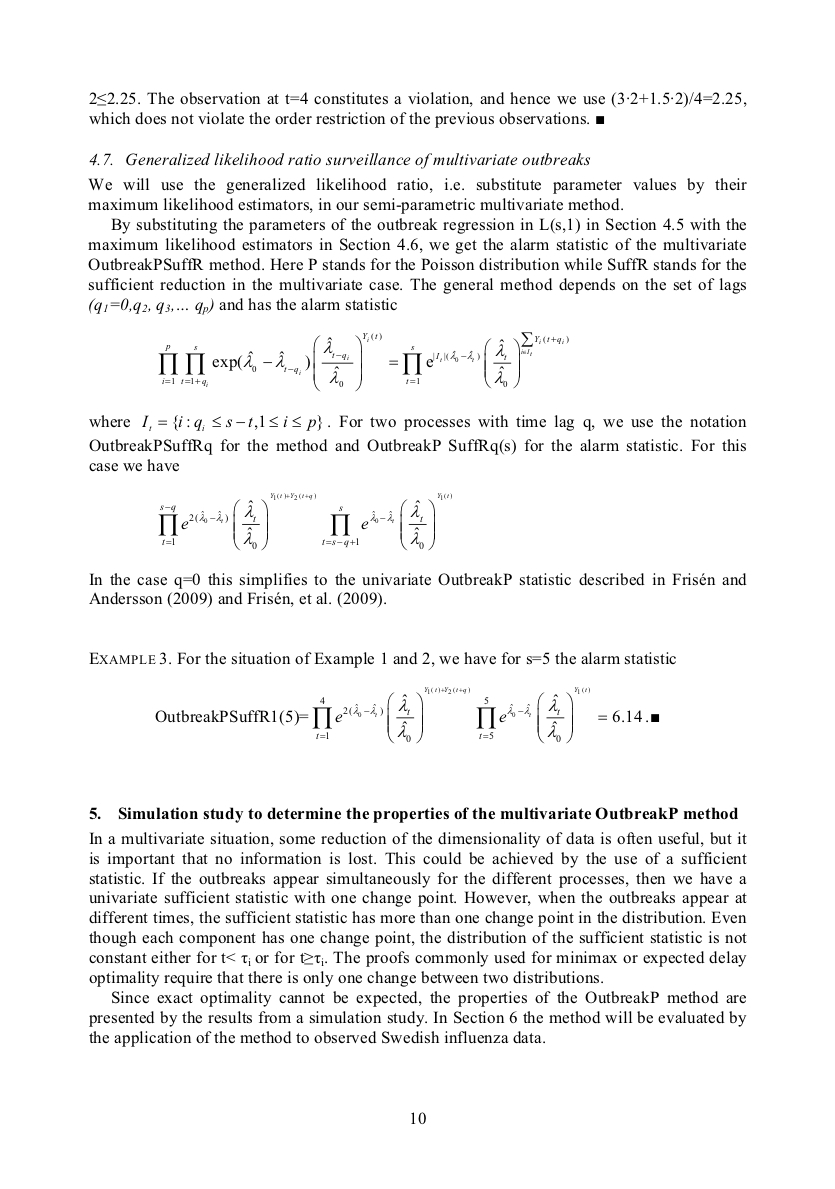formula: (155, 685, 658, 744), (158, 331, 568, 392), (158, 492, 451, 551)
